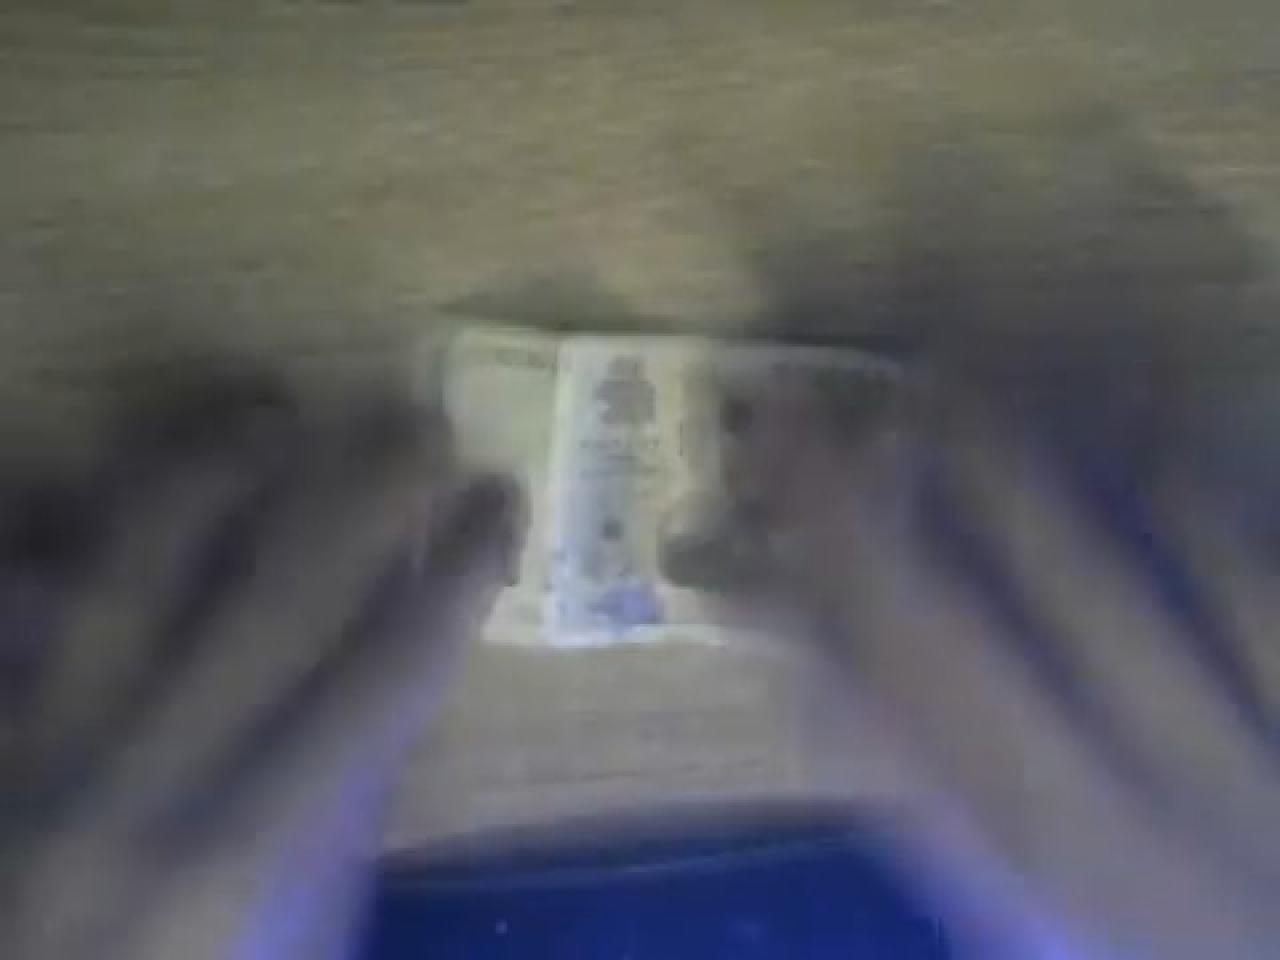10leva: (538, 339, 682, 648)
